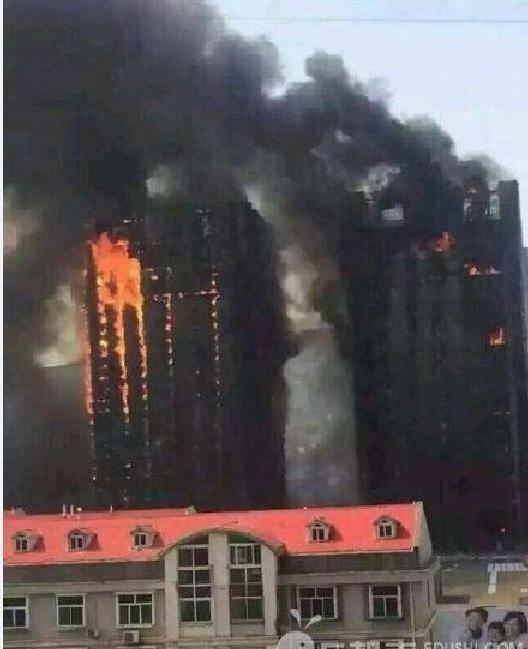fire: (87, 231, 152, 409), (203, 270, 222, 354), (432, 230, 452, 252), (486, 324, 506, 345)
